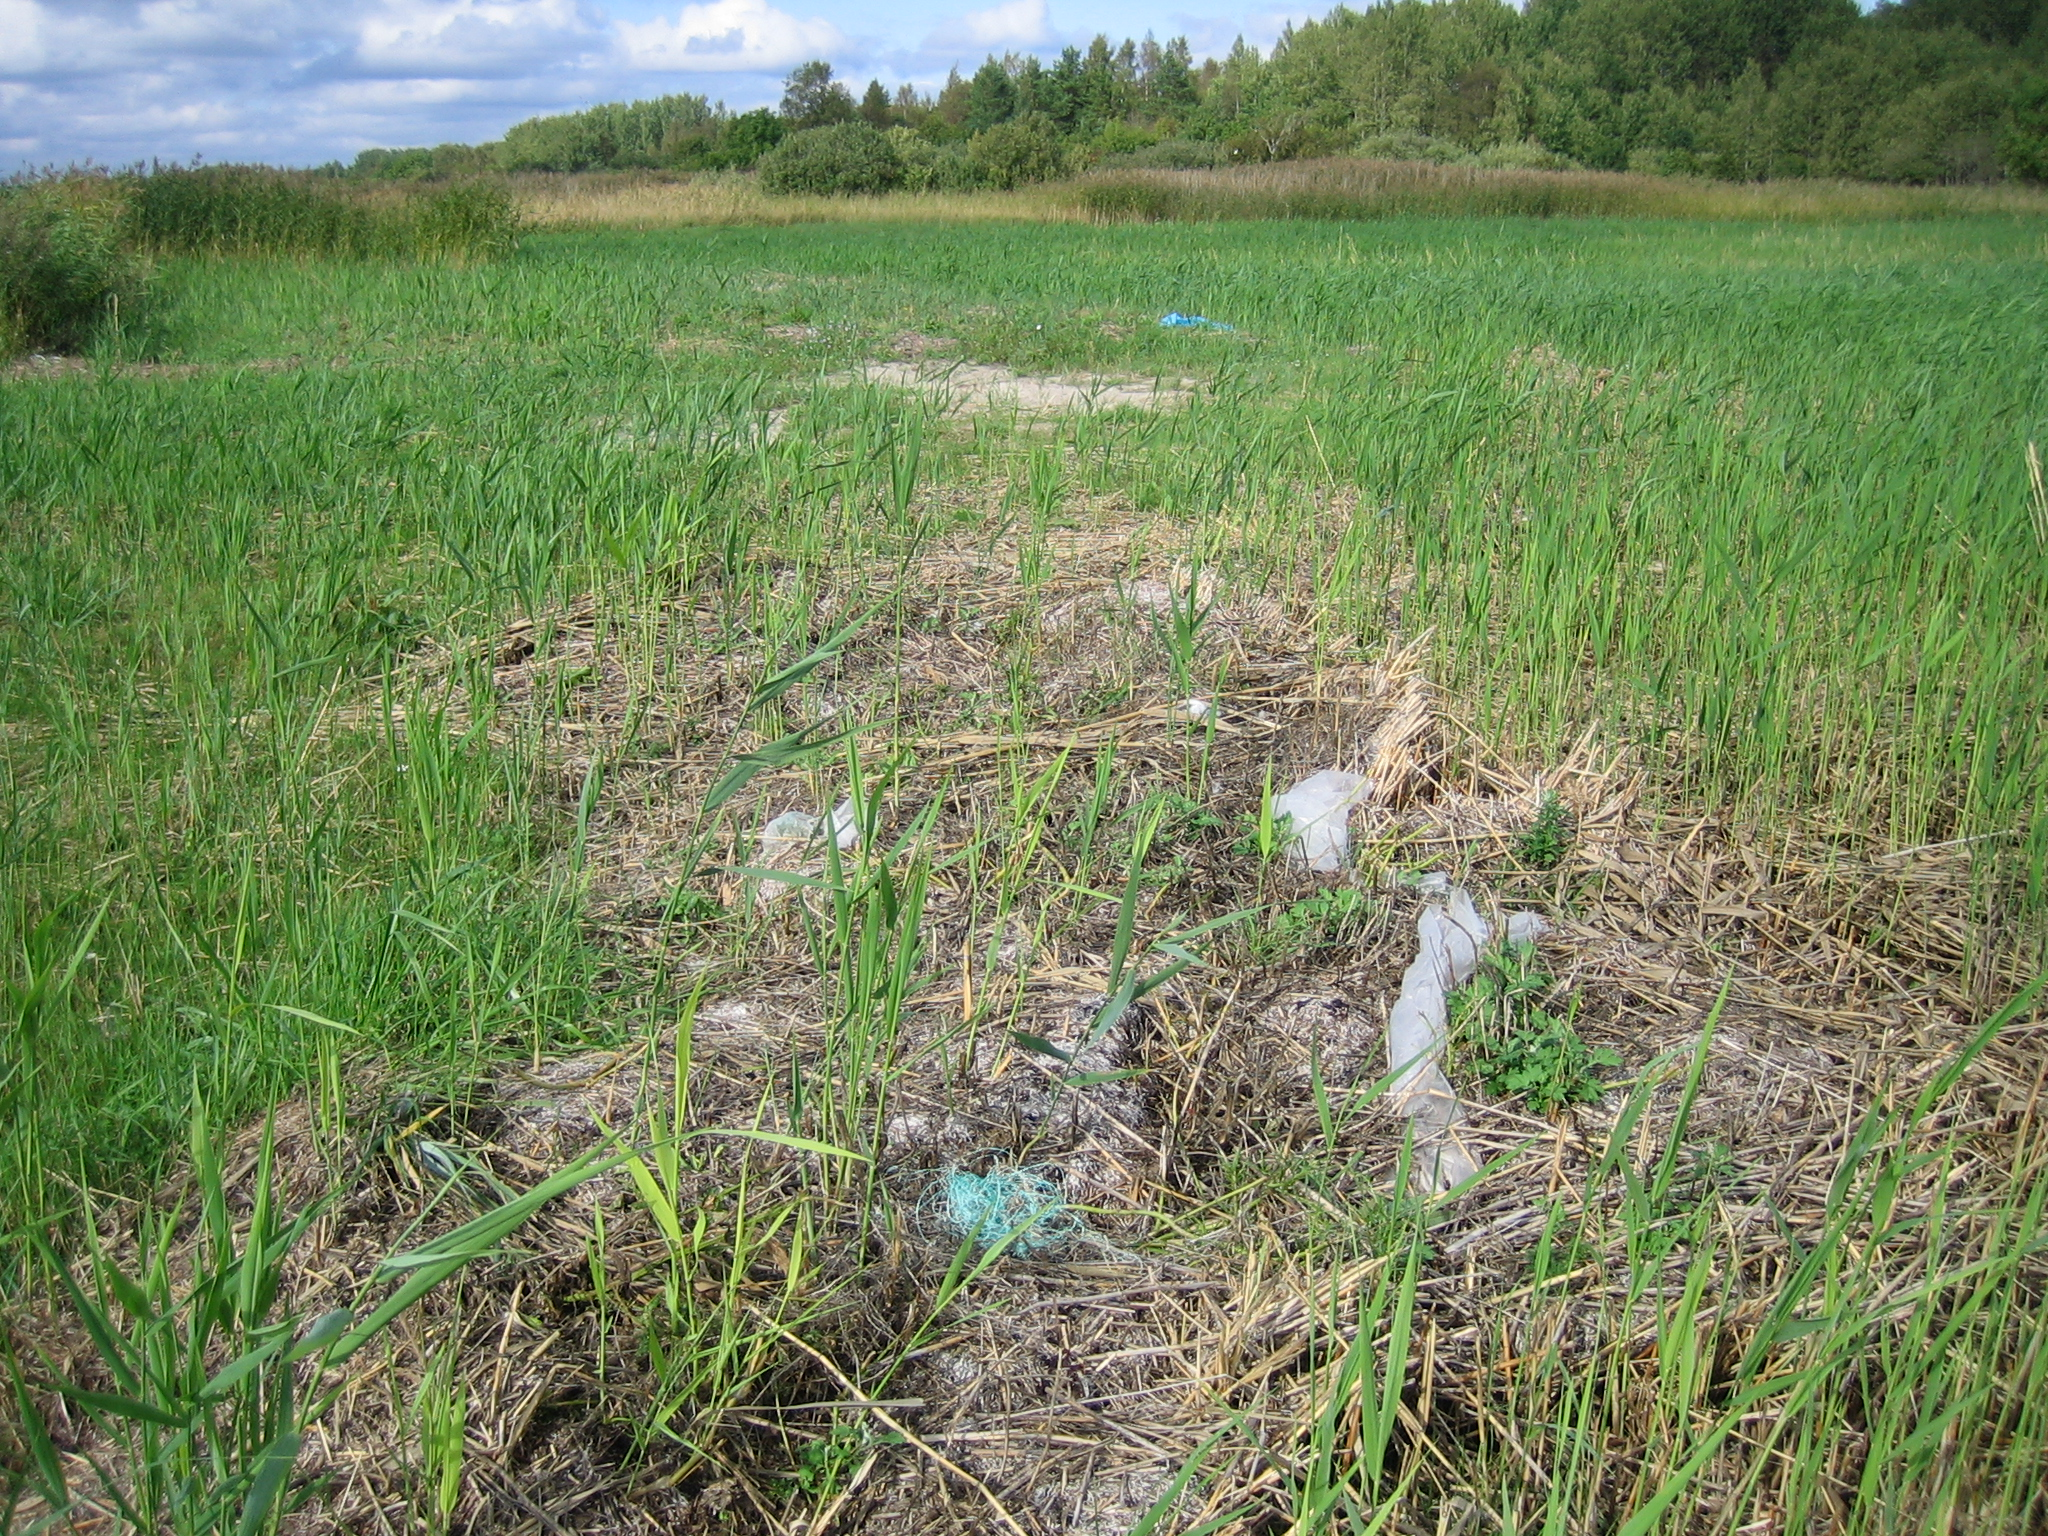trash: (1285, 678, 1503, 1241), (681, 762, 882, 979), (892, 1120, 1097, 1302), (1147, 298, 1280, 339)
